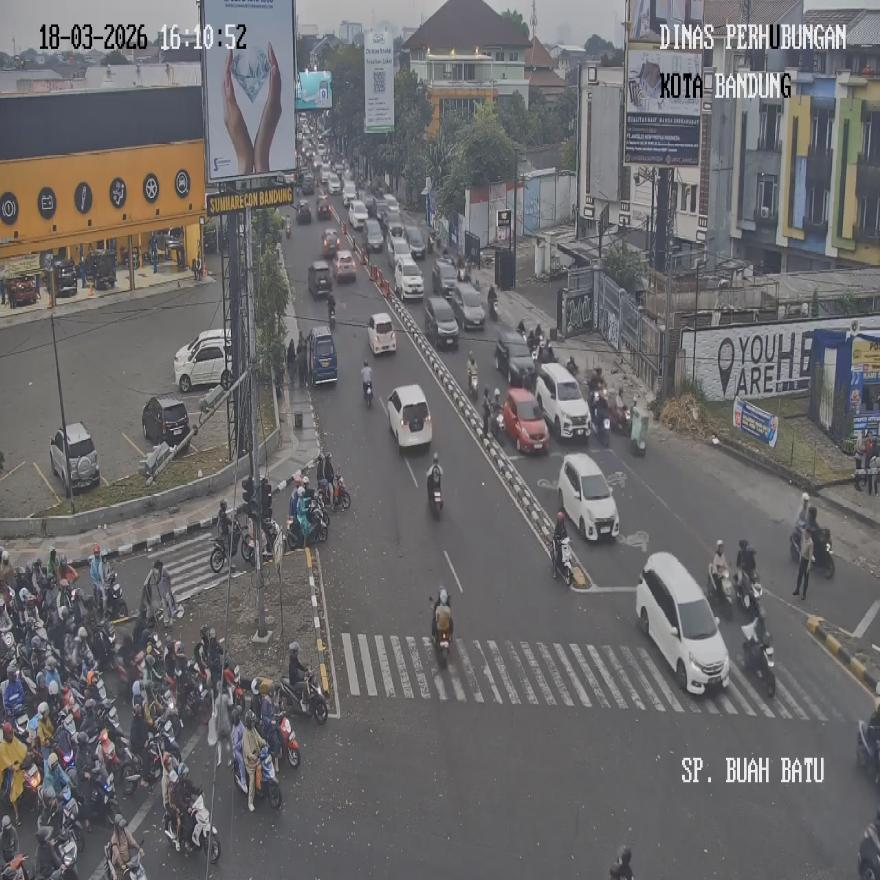Mobil: (635, 550, 729, 694), (558, 453, 619, 542), (173, 328, 233, 392), (49, 422, 100, 492), (386, 385, 432, 447)
Motor: (164, 792, 220, 865), (233, 746, 282, 809), (280, 666, 327, 725), (790, 520, 834, 579), (34, 821, 78, 880), (742, 620, 775, 696), (82, 760, 118, 828), (176, 660, 210, 722), (210, 513, 246, 571), (264, 712, 299, 768), (243, 516, 279, 566), (429, 589, 452, 666), (91, 622, 122, 675), (105, 841, 147, 880), (856, 716, 880, 784), (707, 558, 733, 620), (857, 814, 880, 880), (734, 567, 761, 617), (318, 474, 350, 512), (589, 392, 611, 446), (551, 533, 573, 585), (105, 573, 127, 622), (629, 405, 647, 454), (0, 852, 31, 880), (426, 467, 443, 516), (362, 362, 372, 407), (326, 293, 336, 330), (488, 287, 499, 320), (468, 366, 478, 398), (363, 378, 373, 407)
